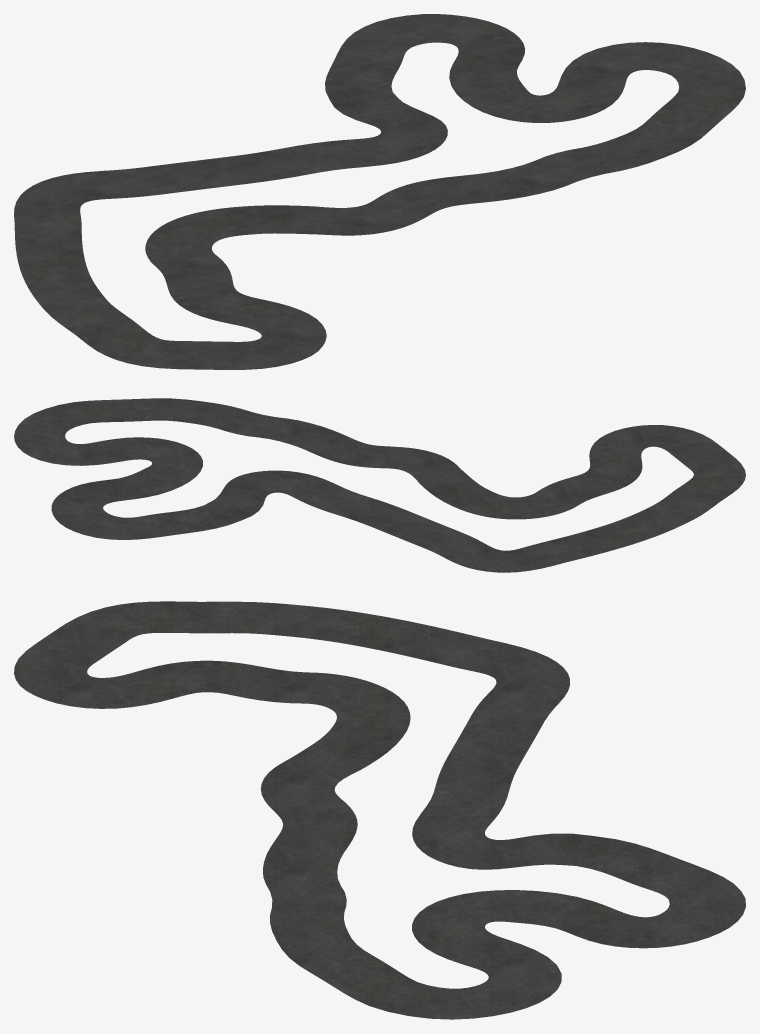
File: Monaco_track_road.dae
The picture shows the model from 3 angles, top to bottom: view 1: azimuth 30°, elevation 25°; view 2: azimuth 150°, elevation 25°; view 3: azimuth 270°, elevation 25°; orthographic projection. The views are drawn at different scales.
Visible parts, largest first — view 1: road; view 2: road; view 3: road.
Part boxes in pixels (x1,y1,x2,y2): road: (14, 14, 745, 369); road: (14, 398, 745, 572); road: (14, 601, 745, 1019).
Bounding box in the file's own units: 19.24 × 14.23 × 5.59e-09.
1 material, 1 textured.
